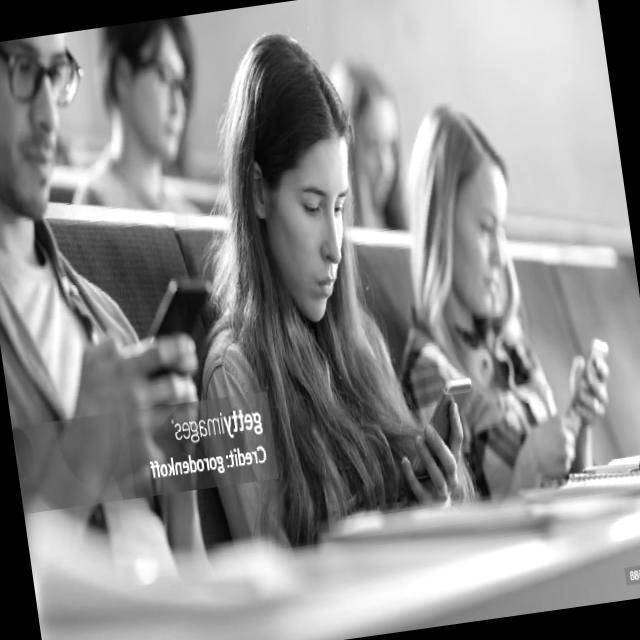phone: (140, 271, 225, 378), (400, 376, 485, 483), (558, 336, 618, 420)
